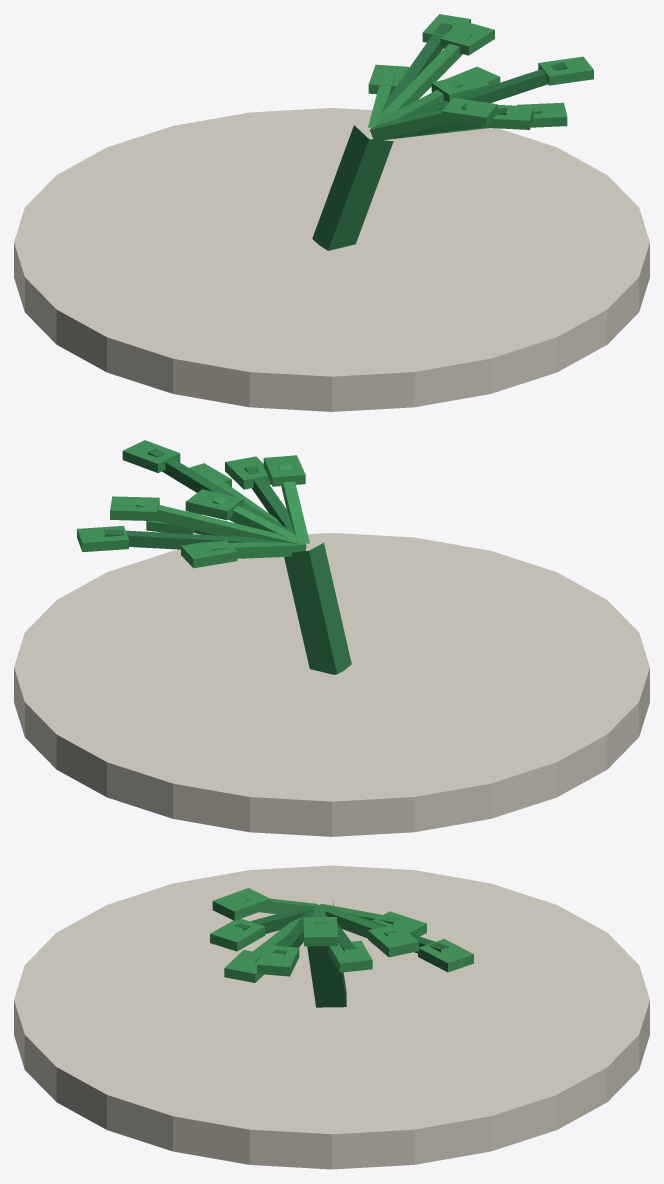
Rendered from rb_divisculpt.glb.
3 views of the same model, one above another, from view 1: azimuth 30°, elevation 25°; view 2: azimuth 150°, elevation 25°; view 3: azimuth 270°, elevation 25° (orthographic).
Parts seen in each view (by area): view 1: rb_divisculpt_lod0; view 2: rb_divisculpt_lod0; view 3: rb_divisculpt_lod0.
Part boxes in pixels (box(x1,y1,x2,y2)): rb_divisculpt_lod0: box(14, 14, 649, 411); rb_divisculpt_lod0: box(14, 440, 649, 836); rb_divisculpt_lod0: box(14, 865, 649, 1169).
Size of what is drawn, in the model's own units: 18.8 by 5.95 by 18.8.
